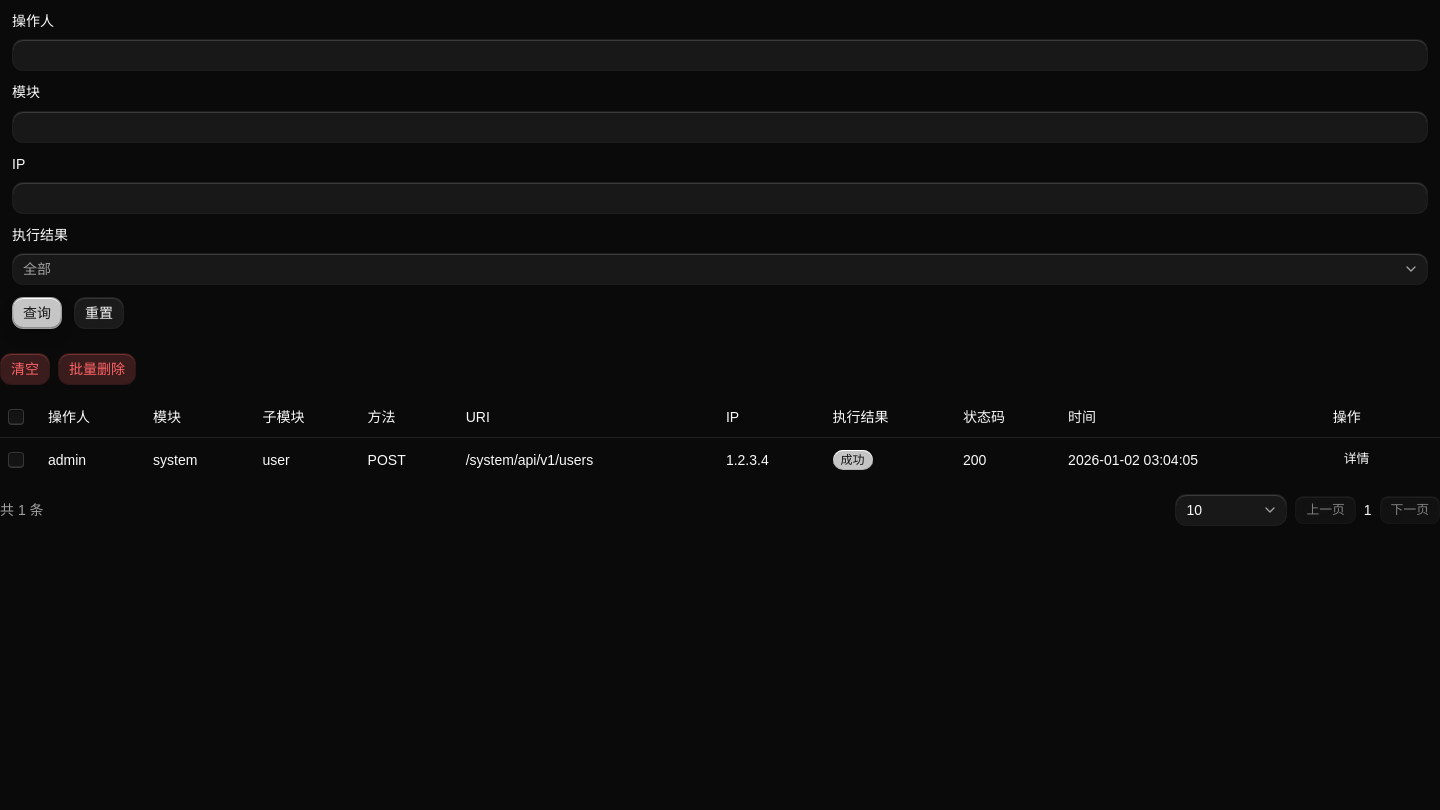
Test case: OperationLogs page › renders op logs and opens detail drawer with backend DTO fields
This screenshot has width=1440, height=810.
Check: the text "admin" is shown, box [40, 437, 145, 482]
Click the button "详情" at x=1356, y=460, box [1333, 446, 1380, 474]
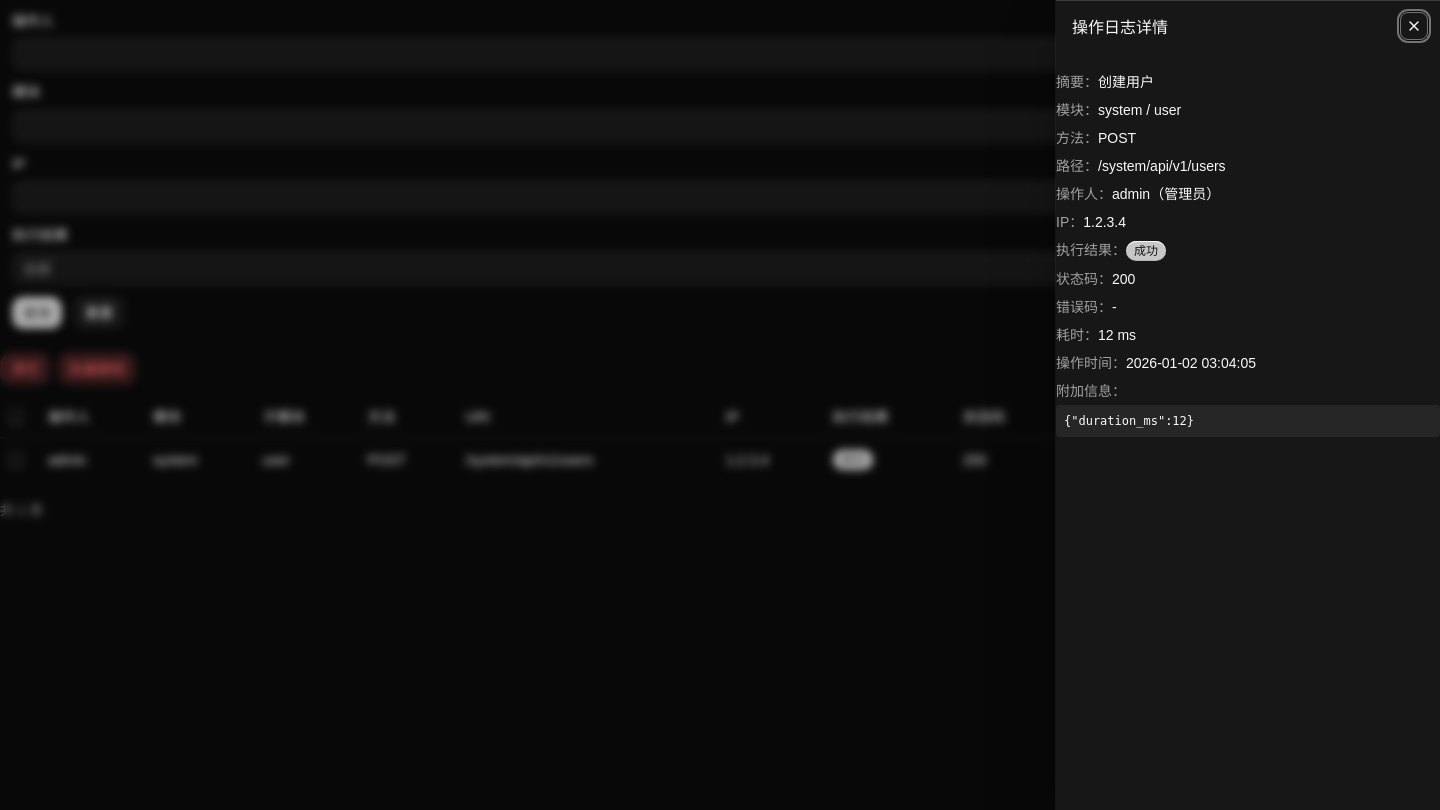
Check: the text "{\"duration_ms\":12}" is shown, box [1056, 405, 1439, 437]
Check: the text "创建用户" is shown, box [1098, 74, 1154, 90]
Check: the text "12 ms" is shown, box [1098, 327, 1136, 343]
